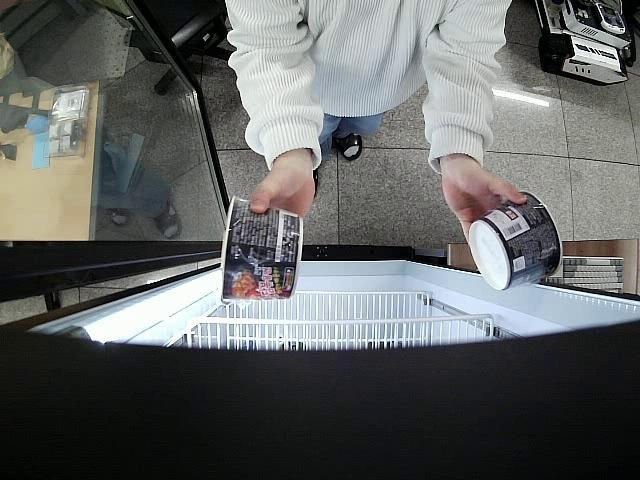07_buldak_L: (466, 191, 566, 294), (218, 196, 304, 303)
